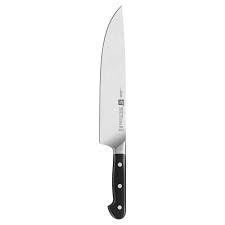knife: (97, 3, 128, 220)
